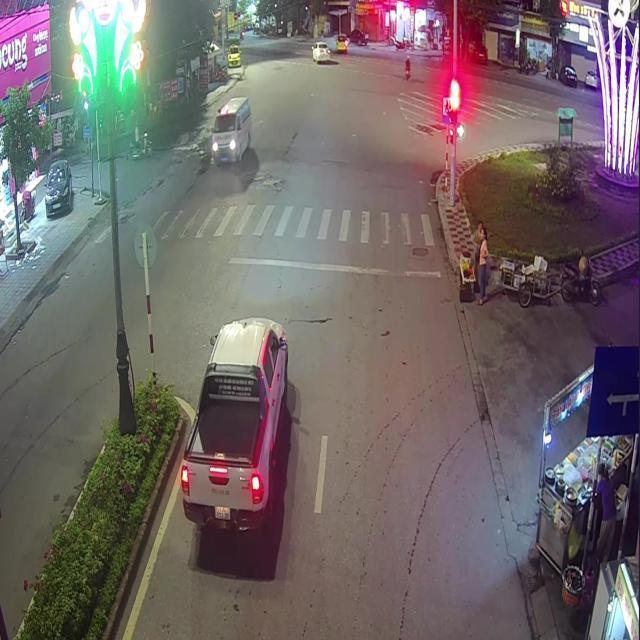car: (179, 316, 287, 530), (311, 41, 331, 61), (333, 33, 347, 51)
red_light: (450, 92, 457, 125)
stop_line: (226, 256, 440, 277)
